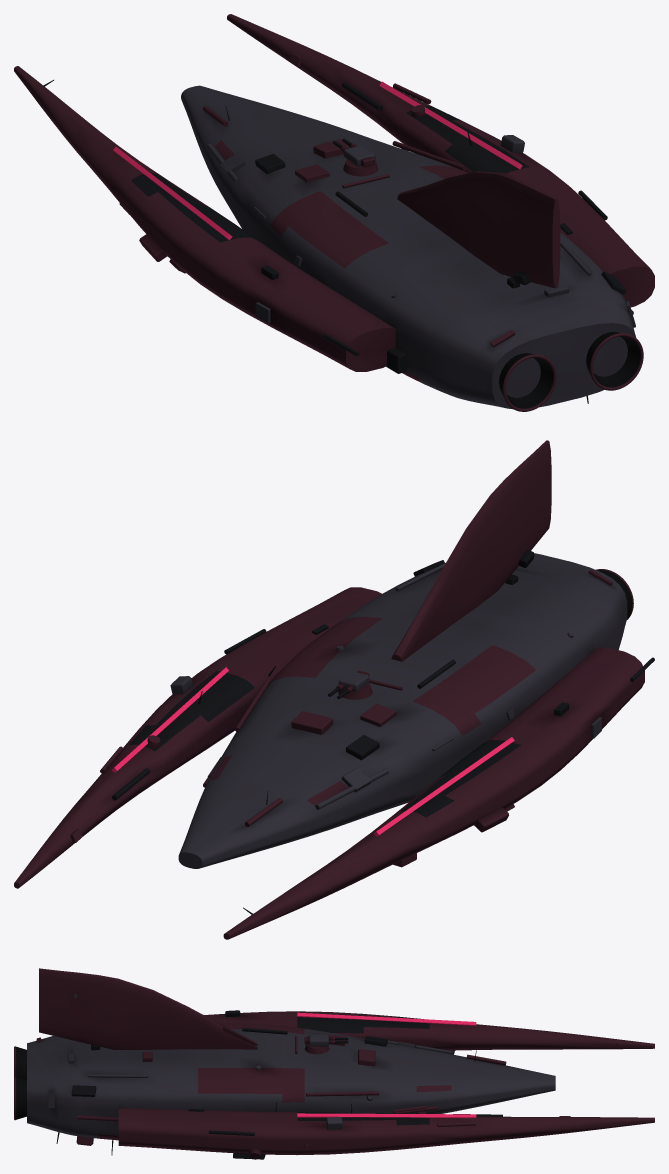
Rendered from corvette-transformed.glb.
3 views of the same model, one above another, from view 1: azimuth 30°, elevation 25°; view 2: azimuth 150°, elevation 25°; view 3: azimuth 270°, elevation 25° (orthographic). The views are drawn at different scales.
Parts seen in each view (by area): view 1: corvette; view 2: corvette; view 3: corvette.
Part boxes in pixels (<box>): corvette: <box>14,14,654,411</box>; corvette: <box>14,440,654,939</box>; corvette: <box>14,968,654,1159</box>.
Size of the model in its own units: 60.23 by 37.04 by 130.
